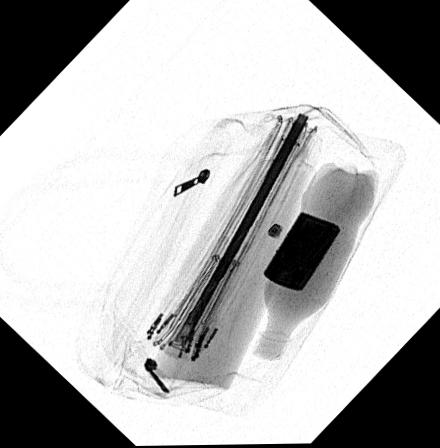Lighter: (260, 212, 343, 293)
